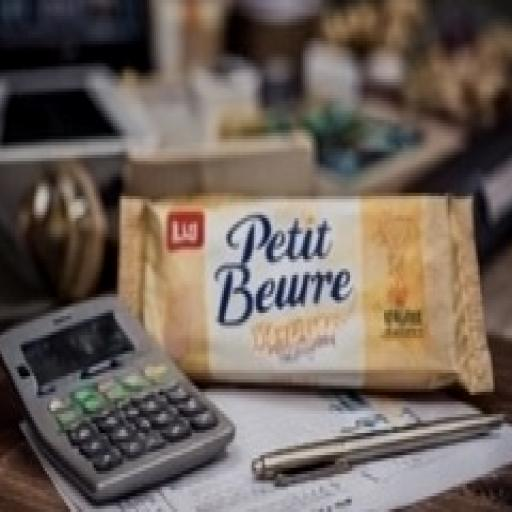petit_beurre: (76, 128, 504, 458)
